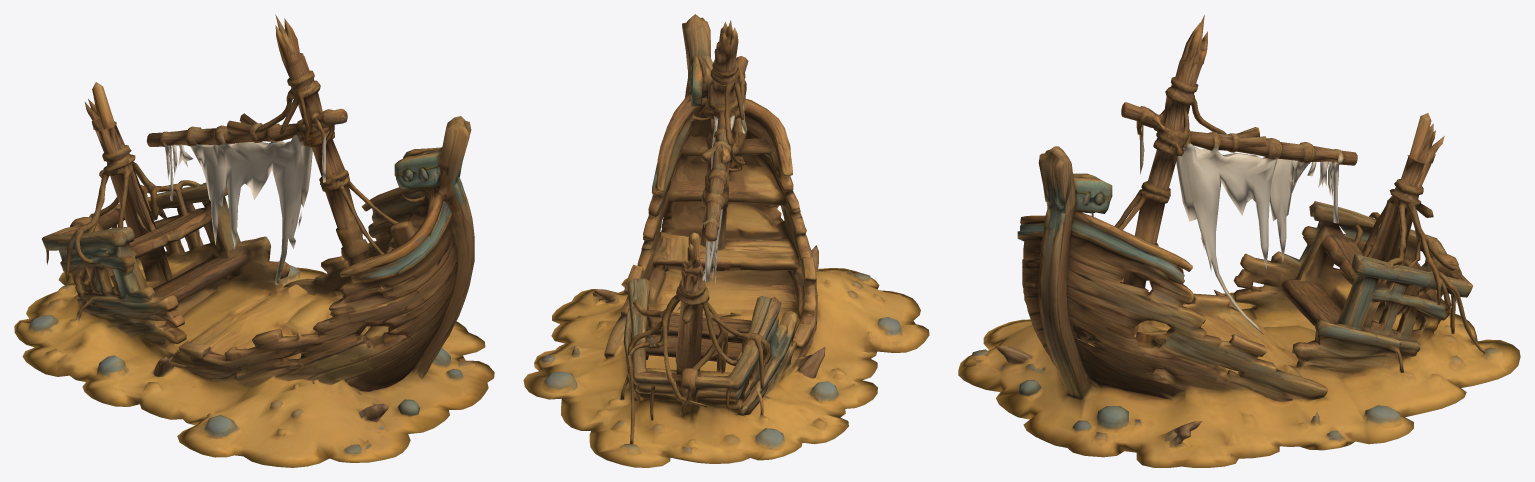
File: shipwreck.glb
The picture shows the model from 3 angles, left to right: view 1: azimuth 30°, elevation 25°; view 2: azimuth 150°, elevation 25°; view 3: azimuth 270°, elevation 25°; orthographic projection. The views are drawn at different scales.
Visible parts, largest first — view 1: tripo_node_7a05d6ed-3f15-4a8f-bb5b-69e9066bcb83; view 2: tripo_node_7a05d6ed-3f15-4a8f-bb5b-69e9066bcb83; view 3: tripo_node_7a05d6ed-3f15-4a8f-bb5b-69e9066bcb83.
Part boxes in pixels (box(x1,y1,x2,y2)): tripo_node_7a05d6ed-3f15-4a8f-bb5b-69e9066bcb83: box(14, 14, 494, 467); tripo_node_7a05d6ed-3f15-4a8f-bb5b-69e9066bcb83: box(523, 14, 929, 467); tripo_node_7a05d6ed-3f15-4a8f-bb5b-69e9066bcb83: box(958, 15, 1520, 467).
Size of the model in its own units: 0.7483 by 0.6947 by 0.978.
1 material, 1 textured.
